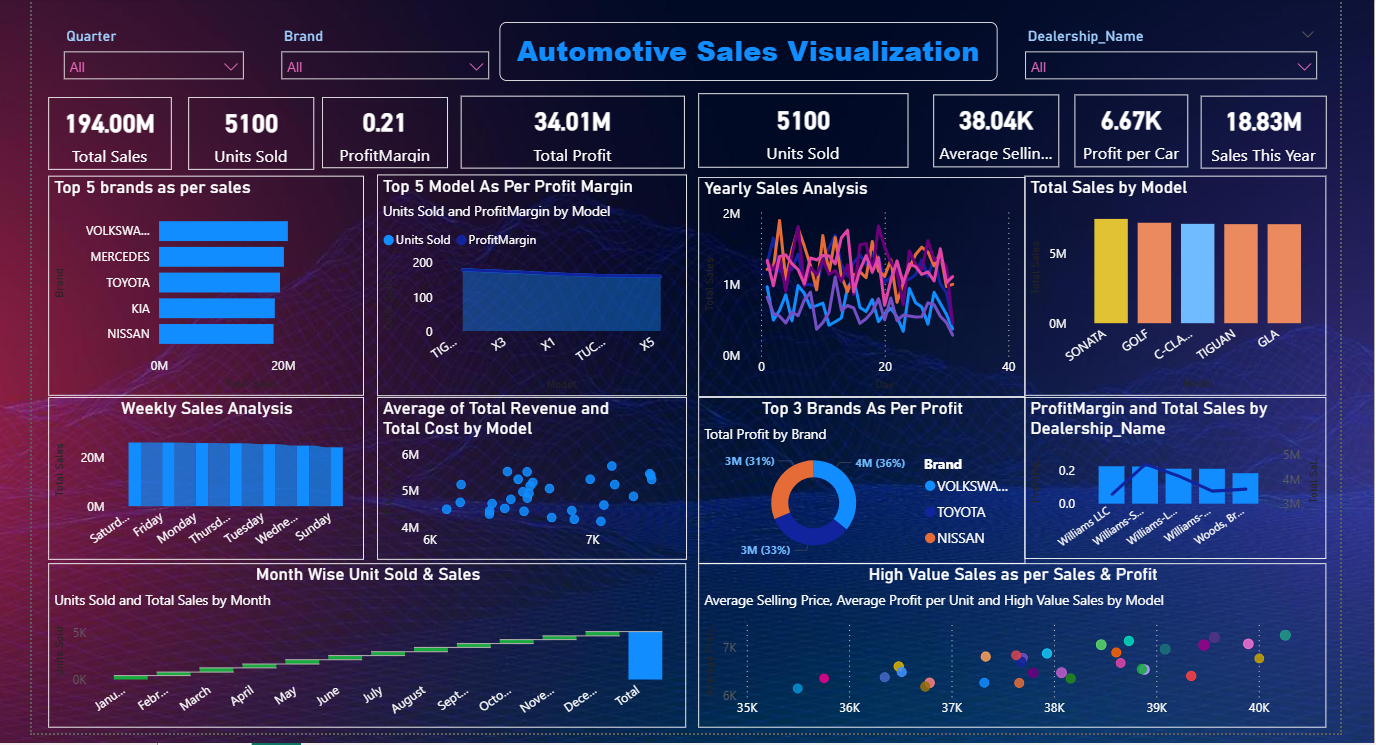

The dashboard page shown, as its layout file describes it:
{"tool":"powerbi","page":{"name":"Page 1","canvas":[1280,720],"ordinal":0},"visuals":[{"type":"textbox","box":[456.9,24.7,487.1,57.6],"z":0},{"type":"slicer","fields":{"Values":["DimDates.Date.Variation.Date Hierarchy.Quarter"]},"box":[20.6,24.7,196.2,72.7],"z":1000},{"type":"slicer","fields":{"Values":["Dimcars.Brand"]},"box":[233.3,24.7,223.7,60.4],"z":2000},{"type":"slicer","fields":{"Values":["DimDealership.Dealership_Name"]},"box":[960.6,24.7,306,70],"z":3000},{"type":"card","fields":{"Values":["sales.Total Sales"]},"box":[16.5,97.4,120.8,71.4],"z":4000},{"type":"card","fields":{"Values":["sales.Total Profit"]},"box":[419.9,96.1,219.6,71.4],"z":5000},{"type":"card","fields":{"Values":["sales.Units Sold"]},"box":[152.3,97.4,123.5,71.4],"z":6000},{"type":"card","fields":{"Values":["sales.ProfitMargin"]},"box":[284,97.4,123.5,70],"z":7000},{"type":"card","fields":{"Values":["sales.Units Sold"]},"box":[651.8,94.7,205.8,72.7],"z":8000},{"type":"card","fields":{"Values":["sales.Sales This Year"]},"box":[1143.1,96.1,123.5,71.4],"z":9000},{"type":"card","fields":{"Values":["sales.Average Selling Price"]},"box":[881.5,95.5,123.5,71.4],"z":10000},{"type":"card","fields":{"Values":["sales.Profit per Car"]},"box":[1019.3,95.7,111.1,71.4],"z":11000},{"type":"clusteredBarChart","title":"Top 5 brands as per sales","fields":{"Category":["Dimcars.Brand"],"Y":["sales.Total Sales"]},"box":[16.5,175.3,308.7,215.4],"z":12000},{"type":"lineChart","title":"Yearly Sales Analysis","fields":{"Category":["DimDates.Date.Variation.Date Hierarchy.Day"],"Y":["sales.Total Sales"],"Series":["DimDates.Date.Variation.Date Hierarchy.Year"]},"box":[651.8,175.6,319.7,215.4],"z":13000},{"type":"stackedAreaChart","title":"Top 5 Model As Per  Profit Margin","fields":{"Category":["Dimcars.Model"],"Y":["sales.Units Sold","sales.ProfitMargin"]},"box":[337.6,173.9,303.3,216.8],"z":14000},{"type":"clusteredColumnChart","fields":{"Category":["Dimcars.Model"],"Y":["sales.Total Sales"]},"box":[971.5,175.3,295,215.4],"z":15000},{"type":"ribbonChart","title":"Weekly Sales Analysis","fields":{"Y":["sales.Total Sales"],"Category":["DimDates.Weekday"]},"box":[16.5,390.7,308.7,159.2],"z":16000},{"type":"donutChart","title":"Top 3 Brands As Per Profit","fields":{"Category":["sales.Brand"],"Y":["sales.Total Profit"]},"box":[651.8,391.1,319.7,163.3],"z":17000},{"type":"scatterChart","fields":{"Category":["sales.Model"],"X":["Avg(sales.Total Revenue)"],"Y":["sales.Total Cost"]},"box":[337.6,390.7,303.3,159.2],"z":18000},{"type":"lineClusteredColumnComboChart","fields":{"Category":["DimDealership.Dealership_Name"],"Y":["sales.ProfitMargin"],"Y2":["sales.Total Sales"]},"box":[971.2,391.2,295,158.8],"z":19000},{"type":"waterfallChart","title":"Month Wise Unit Sold & Sales","fields":{"Category":["DimDates.Date.Variation.Date Hierarchy.Month"],"Y":["sales.Units Sold"]},"box":[16.5,554,624.4,160.5],"z":20000},{"type":"scatterChart","title":"High Value Sales as per Sales & Profit","fields":{"X":["sales.Average Selling Price"],"Y":["sales.Average Profit per Unit"],"Series":["sales.Model"],"Size":["sales.High Value Sales"]},"box":[651.8,554,614.8,160.5],"z":21000}]}

Visuals, with their boxes in screenshot pixels (x1, y1, x2, y2):
textbox: bbox=(495, 22, 992, 80)
slicer - DimDates.Date.Variation.Date Hierarchy.Quarter: bbox=(50, 22, 250, 96)
slicer - Dimcars.Brand: bbox=(267, 22, 495, 83)
slicer - DimDealership.Dealership_Name: bbox=(1009, 22, 1322, 93)
card - sales.Total Sales: bbox=(46, 96, 169, 169)
card - sales.Total Profit: bbox=(457, 95, 682, 167)
card - sales.Units Sold: bbox=(184, 96, 310, 169)
card - sales.ProfitMargin: bbox=(319, 96, 445, 167)
card - sales.Units Sold: bbox=(694, 93, 904, 167)
card - sales.Sales This Year: bbox=(1196, 95, 1322, 167)
card - sales.Average Selling Price: bbox=(929, 94, 1055, 167)
card - sales.Profit per Car: bbox=(1069, 94, 1183, 167)
"Top 5 brands as per sales" clusteredBarChart: bbox=(46, 175, 361, 395)
"Yearly Sales Analysis" lineChart: bbox=(694, 176, 1020, 396)
"Top 5 Model As Per  Profit Margin" stackedAreaChart: bbox=(373, 174, 683, 395)
clusteredColumnChart - Dimcars.Model x sales.Total Sales: bbox=(1020, 175, 1322, 395)
"Weekly Sales Analysis" ribbonChart: bbox=(46, 395, 361, 558)
"Top 3 Brands As Per Profit" donutChart: bbox=(694, 396, 1020, 562)
scatterChart - sales.Model x Avg(sales.Total Revenue): bbox=(373, 395, 683, 558)
lineClusteredColumnComboChart - DimDealership.Dealership_Name x sales.ProfitMargin: bbox=(1020, 396, 1321, 558)
"Month Wise Unit Sold & Sales" waterfallChart: bbox=(46, 562, 683, 726)
"High Value Sales as per Sales & Profit" scatterChart: bbox=(694, 562, 1322, 726)
